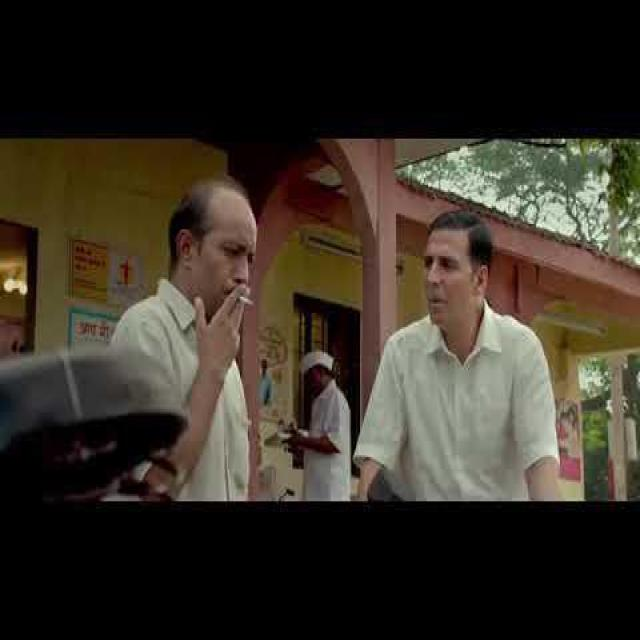cigarette: (229, 277, 260, 322)
